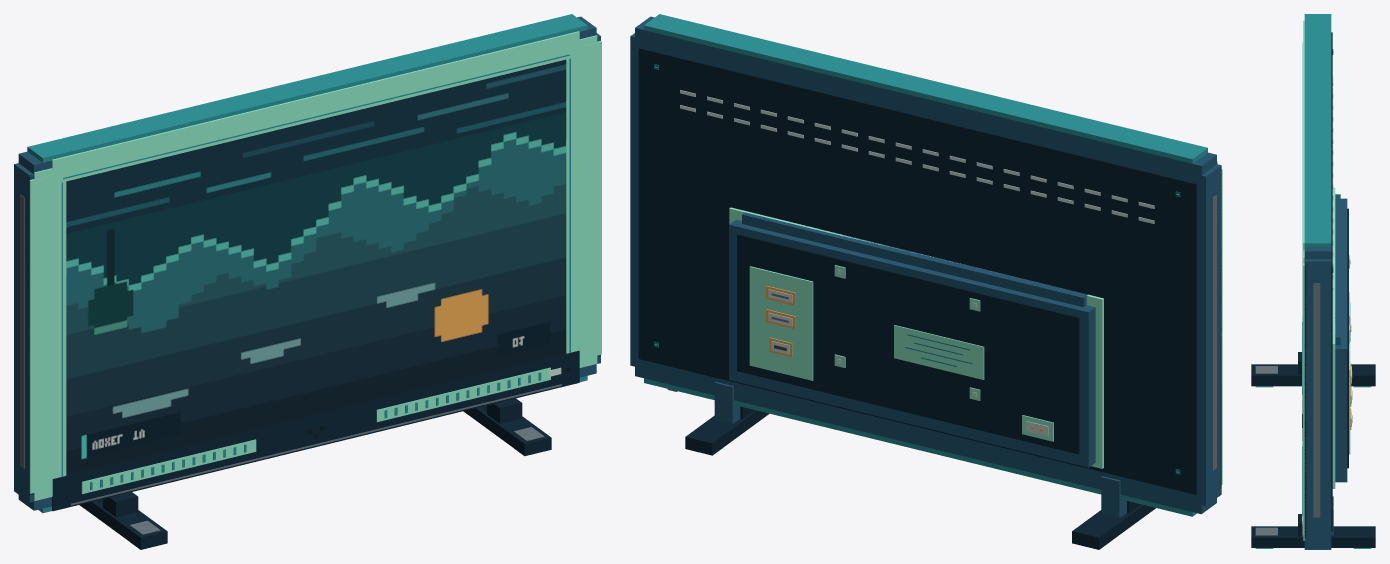
The model's file is television.obj.
3 renders of one model, left to right at view 1: azimuth 30°, elevation 25°; view 2: azimuth 150°, elevation 25°; view 3: azimuth 270°, elevation 25°, orthographic. The views are drawn at different scales.
Parts seen in each view (by area): view 1: screen, part_018, part_019, part_006, part_012, part_002, part_000, part_041, part_058, part_036, part_029, part_010 (+2 smaller); view 2: part_022, part_025, part_000, part_024, part_002, part_001, part_132, part_003, part_026, part_146, part_004, part_023 (+5 smaller); view 3: part_002, part_000, part_024, part_016, part_023, part_022, part_037, part_029, part_036, part_026, part_013, part_030 (+10 smaller).
Part boxes in pixels (bbox=[...]): screen: bbox=[66, 59, 566, 475]; part_018: bbox=[52, 31, 579, 184]; part_019: bbox=[52, 350, 579, 511]; part_006: bbox=[29, 175, 65, 493]; part_012: bbox=[566, 41, 601, 359]; part_002: bbox=[27, 14, 587, 162]; part_000: bbox=[14, 33, 600, 502]; part_041: bbox=[81, 439, 256, 494]; part_058: bbox=[376, 367, 550, 422]; part_036: bbox=[483, 413, 551, 455]; part_029: bbox=[99, 507, 167, 549]; part_010: bbox=[20, 194, 24, 468]; part_022: bbox=[638, 48, 1196, 494]; part_025: bbox=[737, 234, 1079, 454]; part_000: bbox=[630, 33, 1221, 505]; part_024: bbox=[729, 219, 1095, 467]; part_002: bbox=[644, 14, 1207, 163]; part_001: bbox=[635, 16, 1216, 175]; part_132: bbox=[749, 266, 813, 380]; part_003: bbox=[635, 367, 1216, 514]; part_026: bbox=[742, 212, 1087, 307]; part_146: bbox=[894, 325, 984, 379]; part_004: bbox=[644, 378, 1196, 516]; part_023: bbox=[729, 207, 1103, 468]; part_002: bbox=[1304, 14, 1331, 247]; part_000: bbox=[1304, 259, 1331, 543]; part_024: bbox=[1335, 198, 1347, 482]; part_016: bbox=[1313, 283, 1320, 517]; part_023: bbox=[1332, 187, 1335, 488]; part_022: bbox=[1331, 32, 1332, 531]; part_037: bbox=[1331, 526, 1375, 547]; part_029: bbox=[1251, 364, 1301, 386]; part_036: bbox=[1251, 526, 1304, 547]; part_026: bbox=[1335, 194, 1340, 345]; part_013: bbox=[1304, 263, 1306, 536]; part_030: bbox=[1351, 364, 1375, 386].
Size of the model in its own units: 3 by 1.94 by 0.655.
